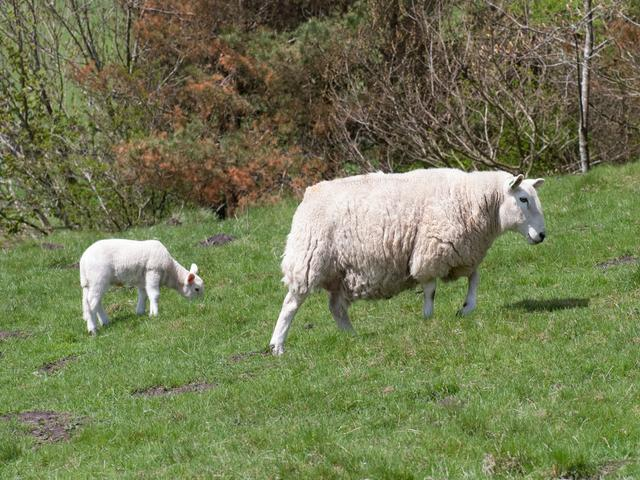sheep: (273, 129, 565, 360), (43, 212, 209, 345)
